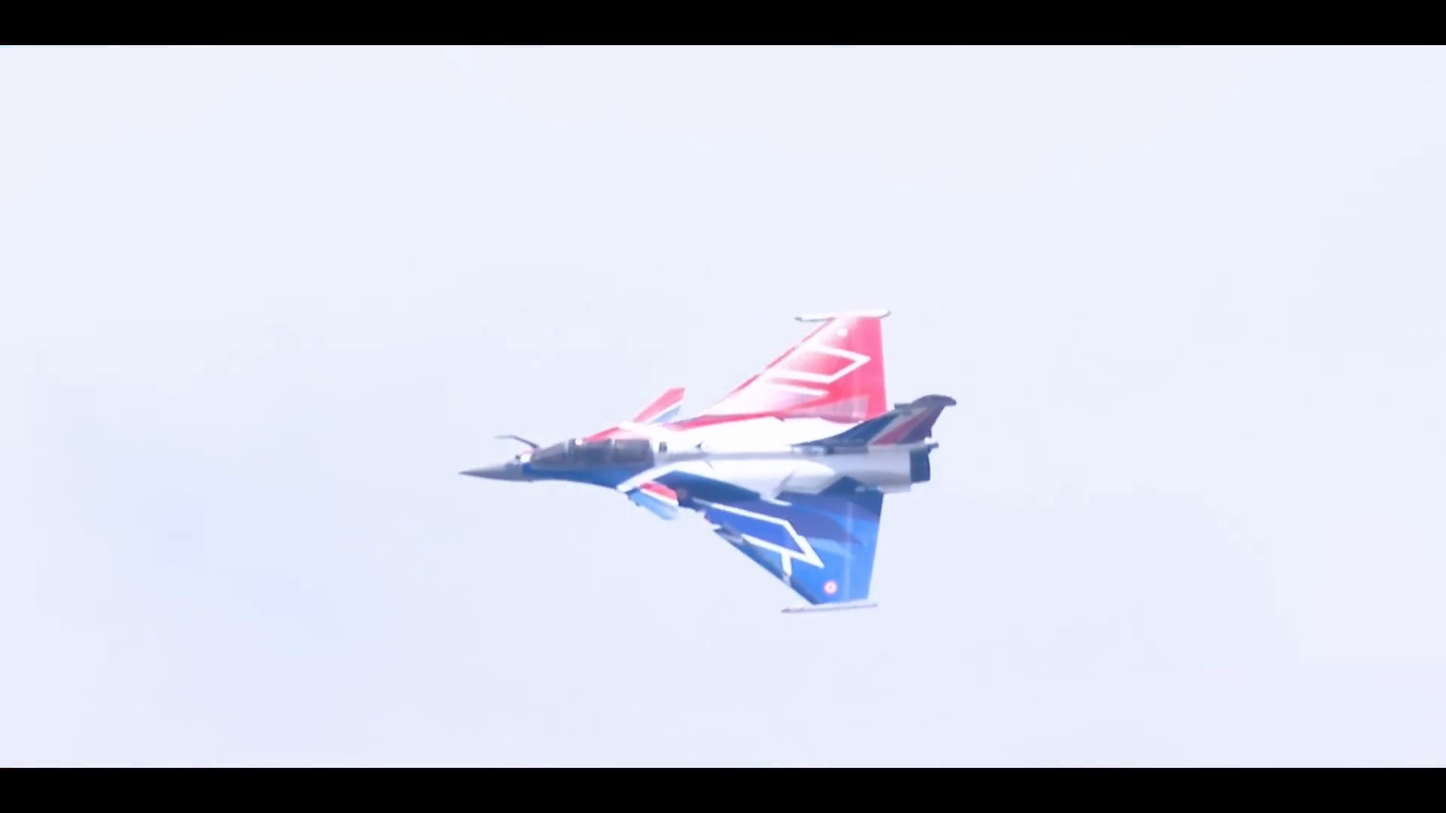Rafale: (453, 306, 953, 616)
